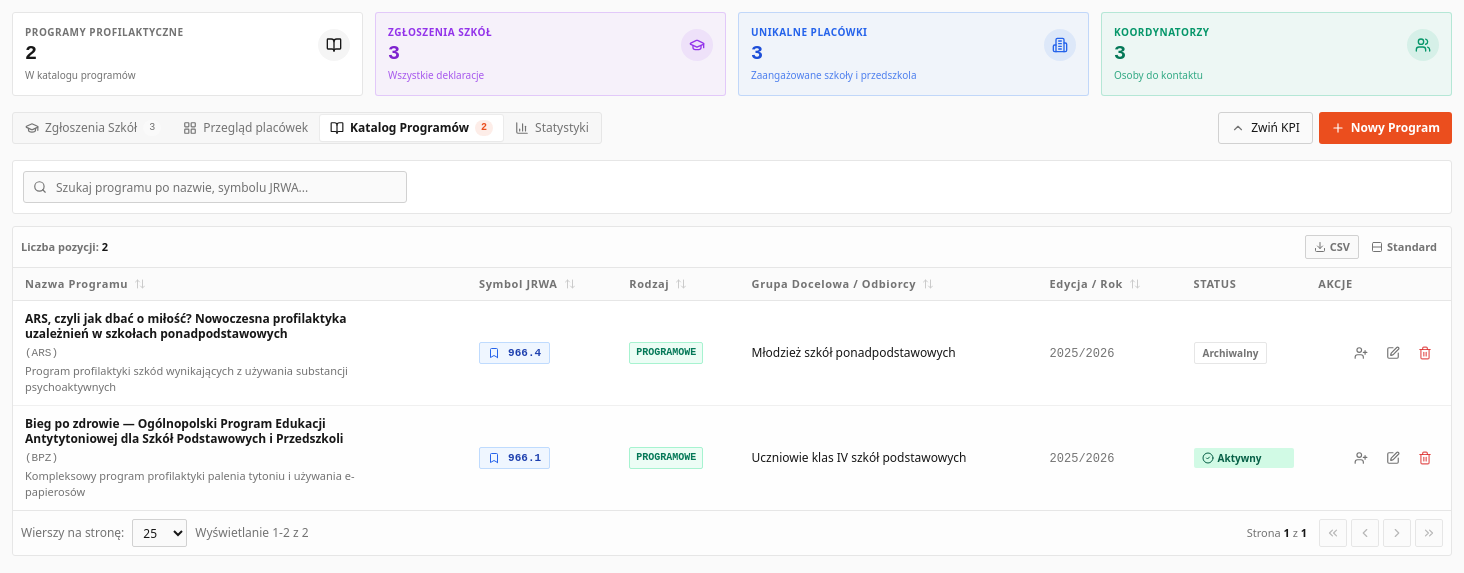
Test: Programy i udziały: przypadki brzegowe › LocalStorage Resilience & Failure Modes › ProgramsSection survives when localStorage throws SecurityError or QuotaExceededError
Expected: the text "Programy Profilaktyczne" is shown, [25,25,184,39]
Click the button "Zwiń KPI".
click(1265, 128)  # box [1218,112,1313,144]
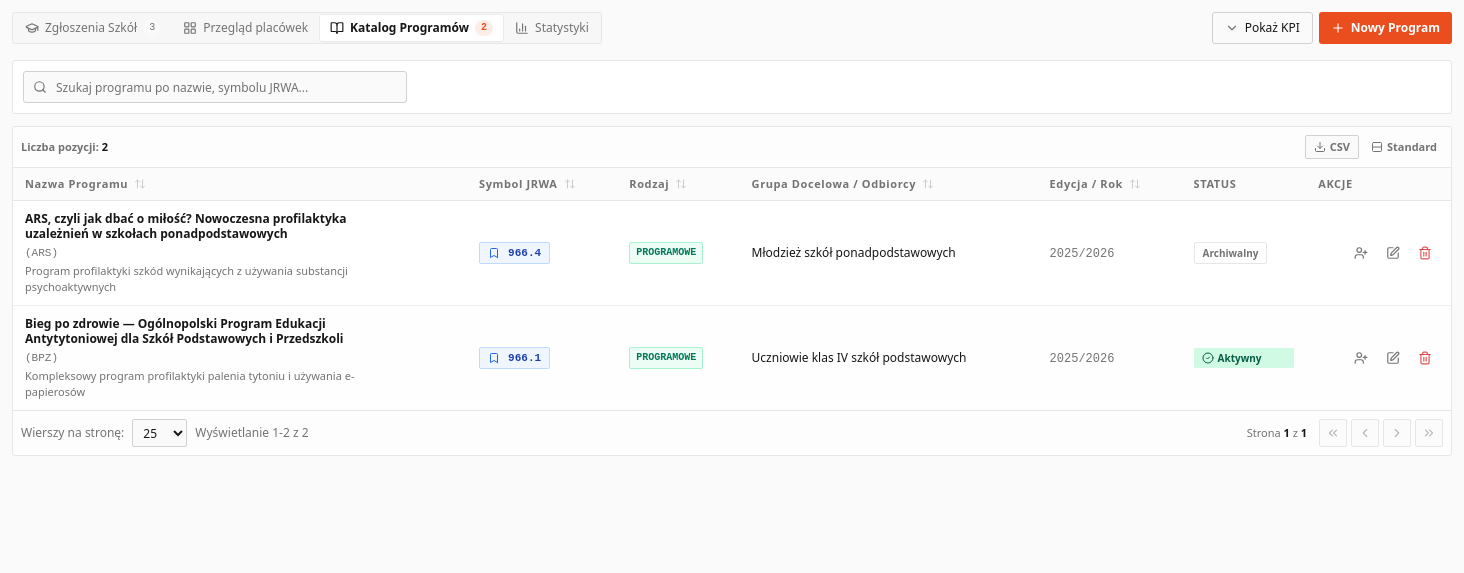
Result: the text "Programy Profilaktyczne" is gone
